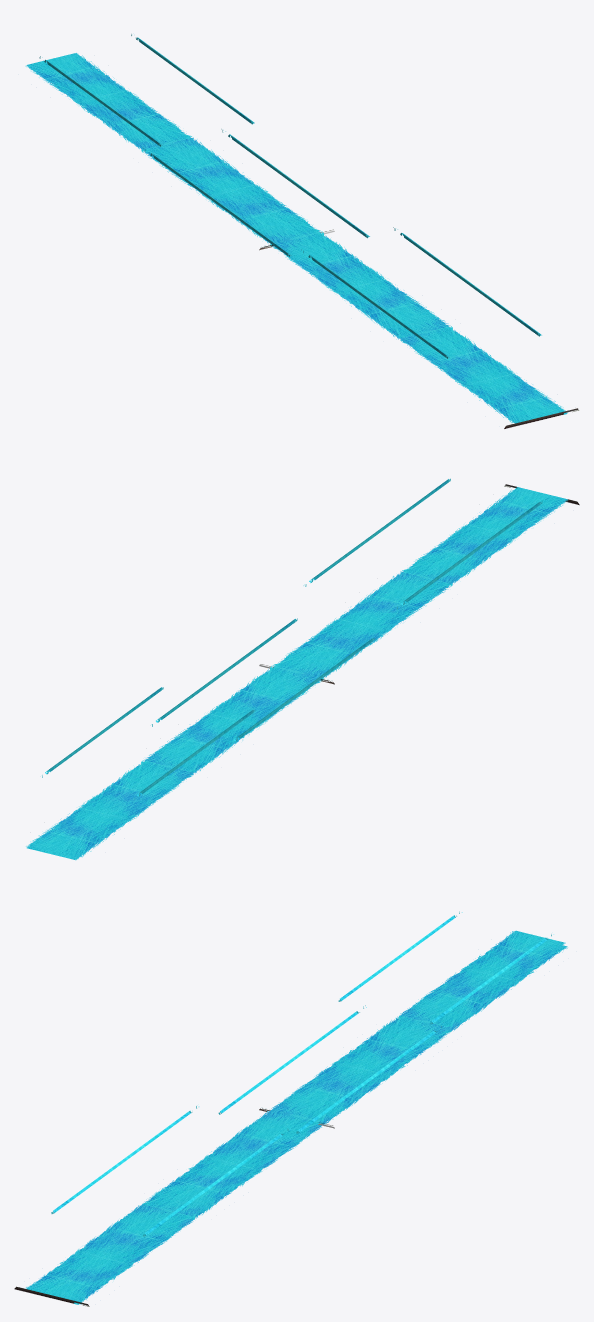
File: meme-factory-bridge-art.glb
The picture shows the model from 3 angles, top to bottom: view 1: azimuth 30°, elevation 25°; view 2: azimuth 150°, elevation 25°; view 3: azimuth 330°, elevation 25°; orthographic projection.
Visible parts, largest first — view 1: MemeFactory_Bridge_Art; view 2: MemeFactory_Bridge_Art; view 3: MemeFactory_Bridge_Art.
Part boxes in pixels (x1=…): MemeFactory_Bridge_Art: x1=25, y1=34, x2=578, y2=429; MemeFactory_Bridge_Art: x1=26, y1=478, x2=579, y2=860; MemeFactory_Bridge_Art: x1=14, y1=911, x2=567, y2=1306.
Bounding box in the file's own units: 3.69 × 1.62 × 33.29.
1 material, 1 textured.
